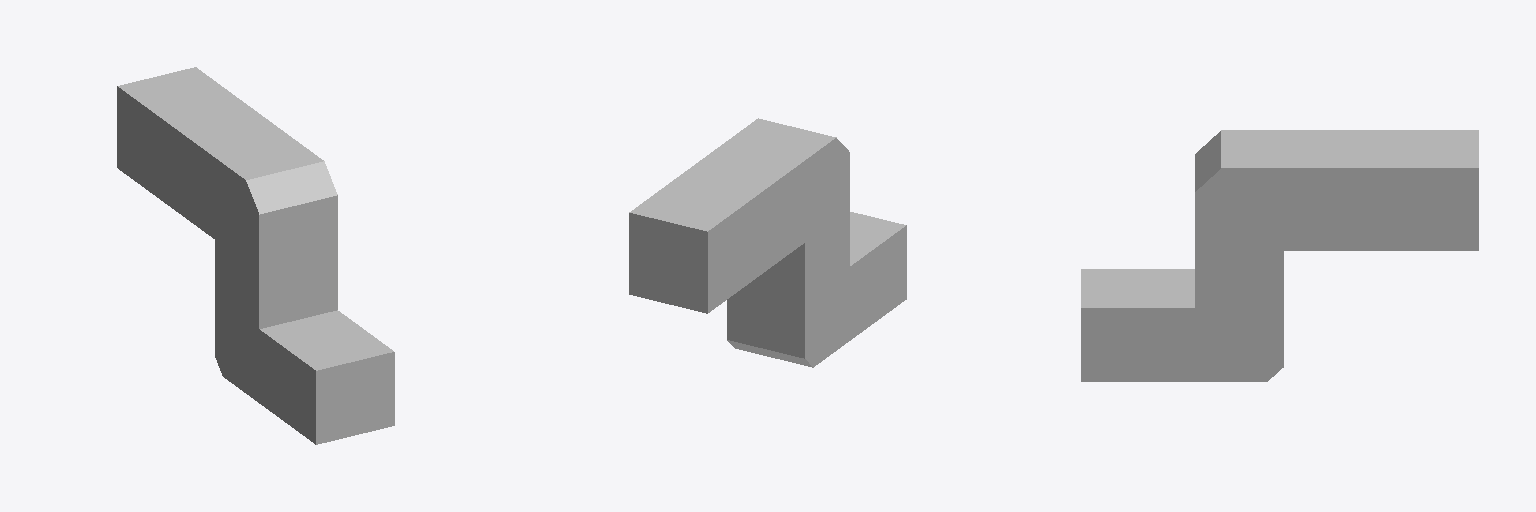
Rendered from head1.obj.
3 renders of one model, left to right at view 1: azimuth 30°, elevation 25°; view 2: azimuth 150°, elevation 25°; view 3: azimuth 270°, elevation 25°, orthographic.
Parts seen in each view (by area): view 1: pCube3_Mesh.023; view 2: pCube3_Mesh.023; view 3: pCube3_Mesh.023.
Part boxes in pixels (x1,y1,x2,y2): pCube3_Mesh.023: (117, 67, 394, 444); pCube3_Mesh.023: (629, 118, 906, 367); pCube3_Mesh.023: (1081, 130, 1478, 381).
Size of the model in its own units: 0.0188 by 0.0489 by 0.0826.